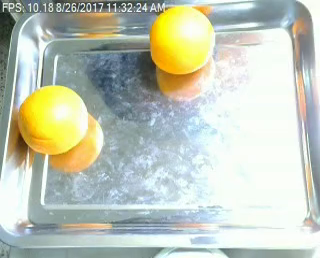Orange: (16, 84, 88, 155), (148, 5, 215, 75)
